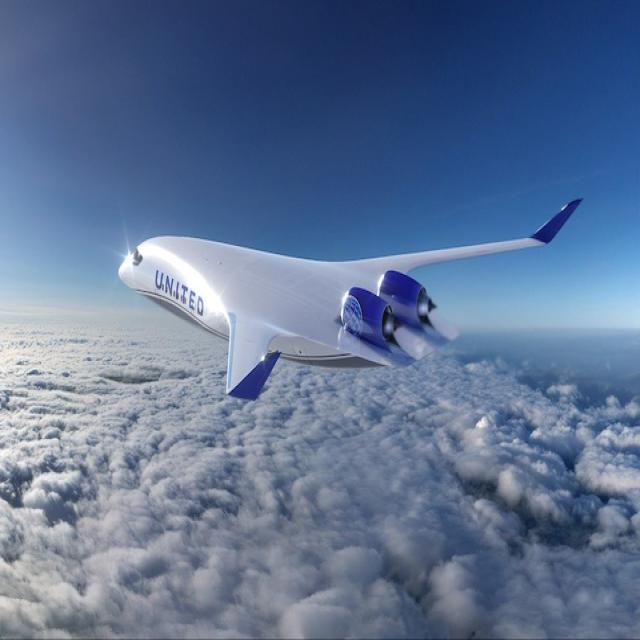jet: (94, 127, 640, 450)
